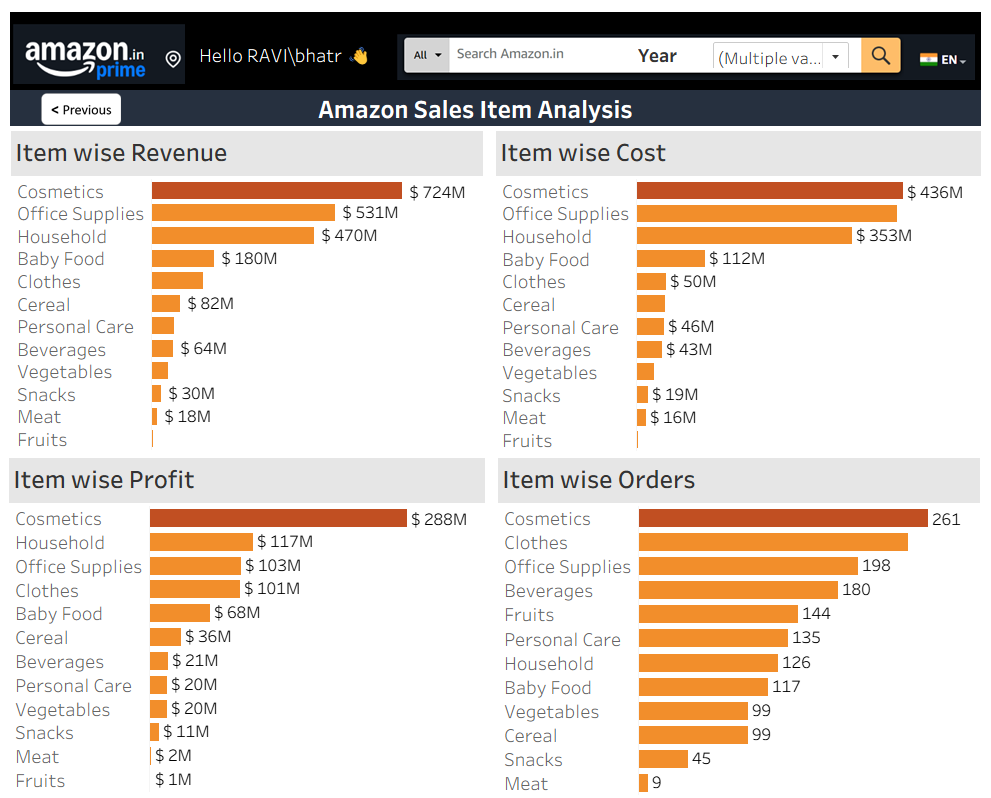

This screenshot's page, from the dashboard's own definition file:
{"tool":"tableau","page":{"name":"Item Analysis","canvas":[1000,800],"ordinal":1},"visuals":[{"type":"blank","box":[17,14,971,78]},{"type":"image","param":"C:/Users/bhatr/Documents/IT Rescources/Projects-GitHub/Tableau Dashboards/Amazon","box":[20,26,176,60]},{"type":"image","param":"C:/Users/bhatr/Documents/IT Rescources/Projects-GitHub/Tableau Dashboards/Amazon","box":[404,36,578,55]},{"type":"text","box":[202,40,223,34]},{"type":"filter","title":"Item wise Revenue","param":"[federated.1lict1q0mehexe19oex401ajhofs].[yr:Ship Date:ok]","box":[645,44,214,26]},{"type":"blank","box":[17,92,971,36]},{"type":"dashboard-object","box":[25,95,127,35]},{"type":"text","box":[321,95,366,30]},{"type":"worksheet","title":"Item wise Revenue","mark":"Automatic","rows":["Item Type"],"cols":["Total Revenue"],"box":[18,133,472,319]},{"type":"worksheet","title":"Item wise Cost","mark":"Automatic","rows":["Item Type"],"cols":["Total Cost"],"box":[503,133,485,320]},{"type":"worksheet","title":"Item wise Profit","mark":"Automatic","rows":["Item Type"],"cols":["Calculation_0890636785463296"],"box":[16,460,476,334]},{"type":"worksheet","title":"Item wise Orders","mark":"Automatic","rows":["Item Type"],"cols":["Calculation_0890636790030337"],"box":[505,460,482,337]}]}

Visuals, with their boxes on the page's 1000x800 design canvas (x1, y1, x2, y2). These are canvas units, not pixel positions in the 991x798 screenshot, which may show the page scaled, cropped or inside an application window:
blank: {"x1": 17, "y1": 14, "x2": 988, "y2": 92}
image: {"x1": 20, "y1": 26, "x2": 196, "y2": 86}
image: {"x1": 404, "y1": 36, "x2": 982, "y2": 91}
text: {"x1": 202, "y1": 40, "x2": 425, "y2": 74}
"Item wise Revenue" filter: {"x1": 645, "y1": 44, "x2": 859, "y2": 70}
blank: {"x1": 17, "y1": 92, "x2": 988, "y2": 128}
dashboard-object: {"x1": 25, "y1": 95, "x2": 152, "y2": 130}
text: {"x1": 321, "y1": 95, "x2": 687, "y2": 125}
"Item wise Revenue" worksheet: {"x1": 18, "y1": 133, "x2": 490, "y2": 452}
"Item wise Cost" worksheet: {"x1": 503, "y1": 133, "x2": 988, "y2": 453}
"Item wise Profit" worksheet: {"x1": 16, "y1": 460, "x2": 492, "y2": 794}
"Item wise Orders" worksheet: {"x1": 505, "y1": 460, "x2": 987, "y2": 797}
